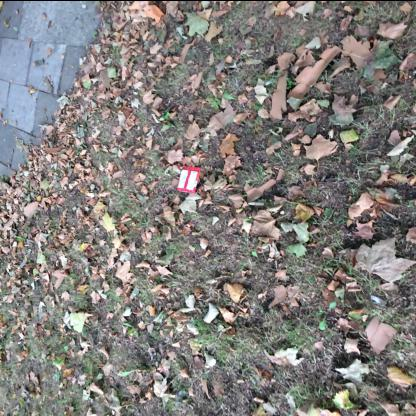plastik: (176, 166, 202, 192)
